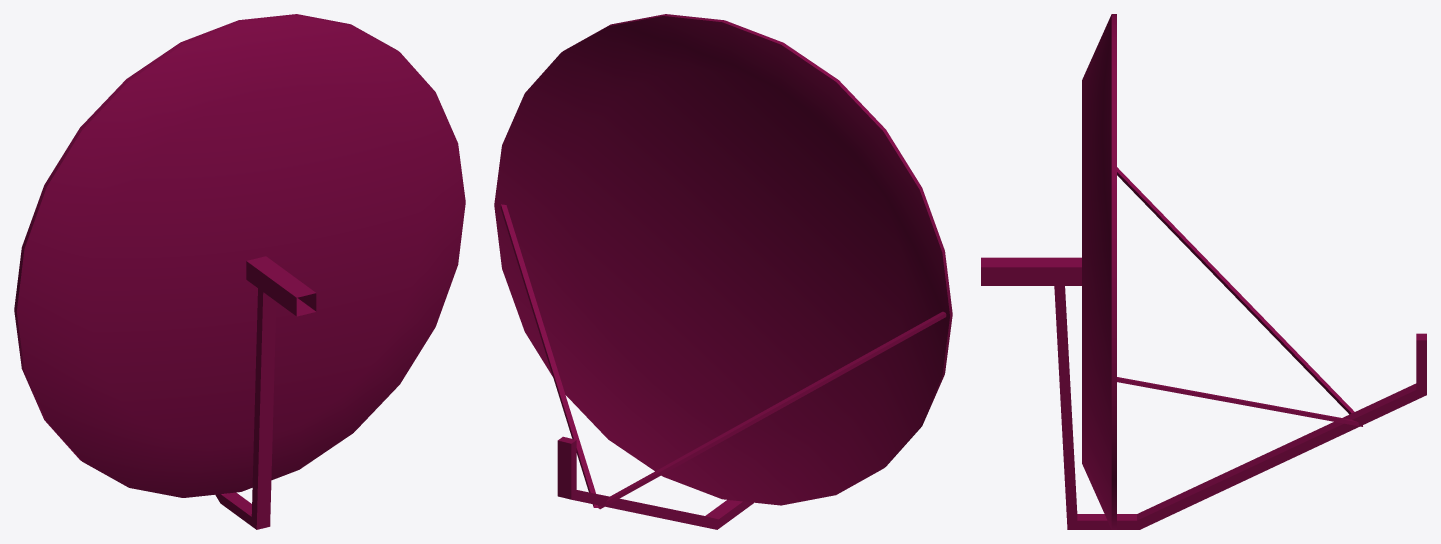
The model's file is SatelliteDish.FBX.
The picture shows the model from 3 angles, left to right: view 1: azimuth 30°, elevation 25°; view 2: azimuth 150°, elevation 25°; view 3: azimuth 270°, elevation 25°; orthographic projection.
Parts seen in each view (by area): view 1: SatelliteDish; view 2: SatelliteDish; view 3: SatelliteDish.
Part boxes in pixels (x1,y1,x2,y2): SatelliteDish: (14,14,465,529); SatelliteDish: (494,14,952,529); SatelliteDish: (981,14,1426,529).
Bounding box in the file's own units: 100 × 104 × 86.07.
